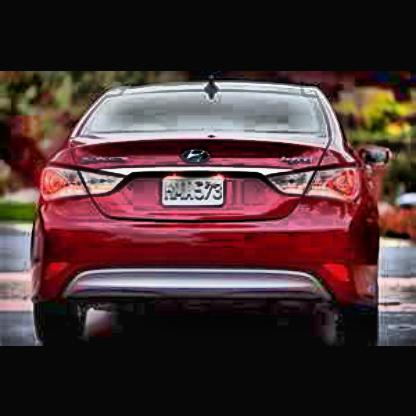Hyundai Sonata Hybrid Sedan 2012: (30, 72, 384, 342)
